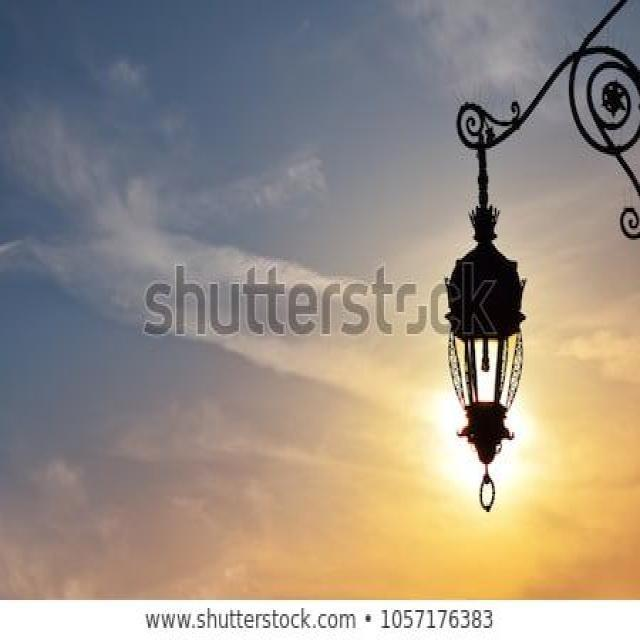on: (405, 280, 576, 498)
